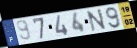4: (71, 11, 87, 35), (54, 14, 69, 37)
7: (32, 17, 46, 41)
9: (17, 20, 34, 43), (105, 6, 122, 29)
N: (85, 8, 108, 33)
